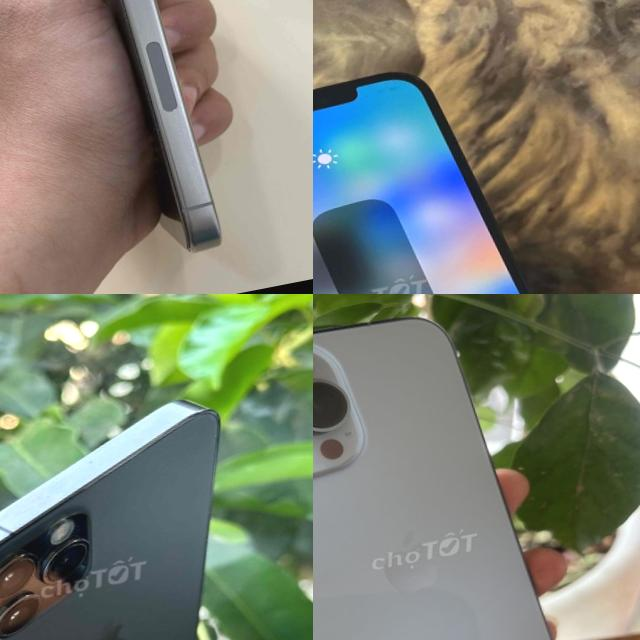gen_12_13: (313, 317, 551, 640), (0, 390, 294, 640), (313, 50, 605, 294)
gen_15: (13, 0, 255, 284)
